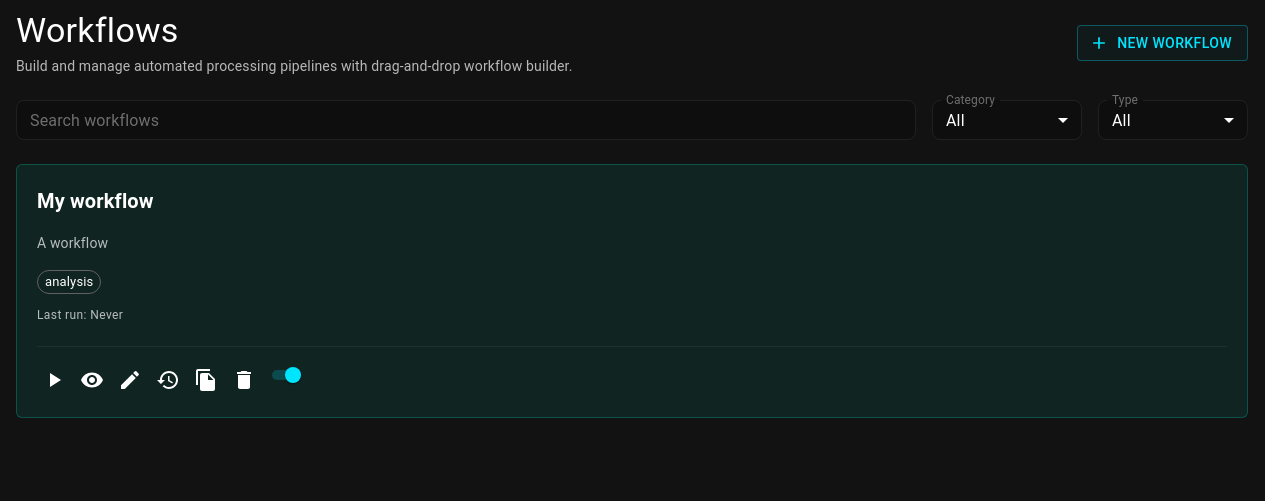
Test case: WorkflowsPage › optimistically toggles is_active and rolls back on PATCH failure
Click the switch at (293, 375), box 285,367 -> 301,383
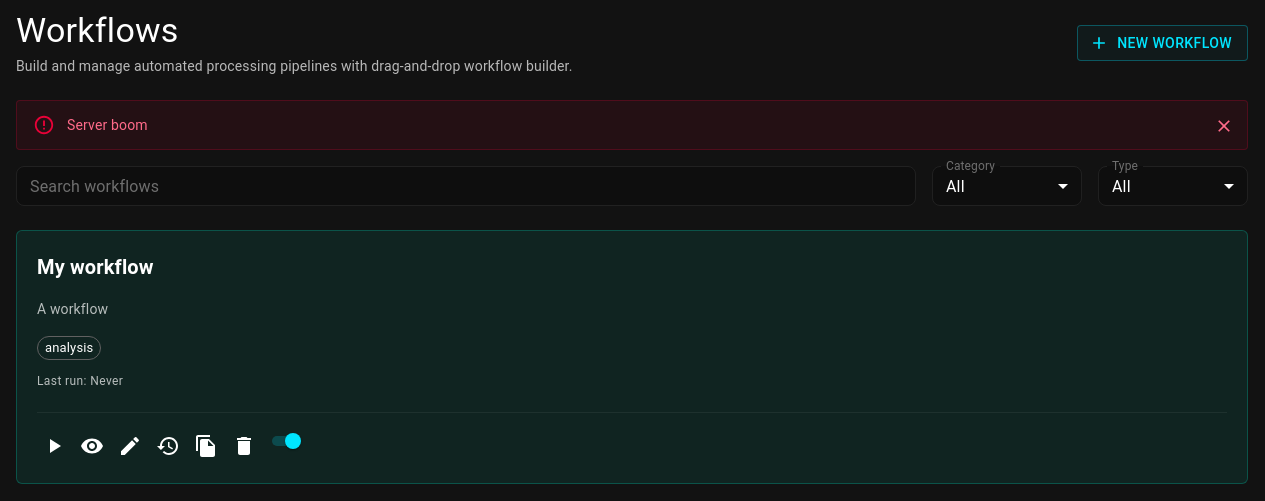
expect the switch is checked: met, box 285,433 -> 301,449
expect the text "Server boom" is shown: met, box 67,117 -> 148,133
